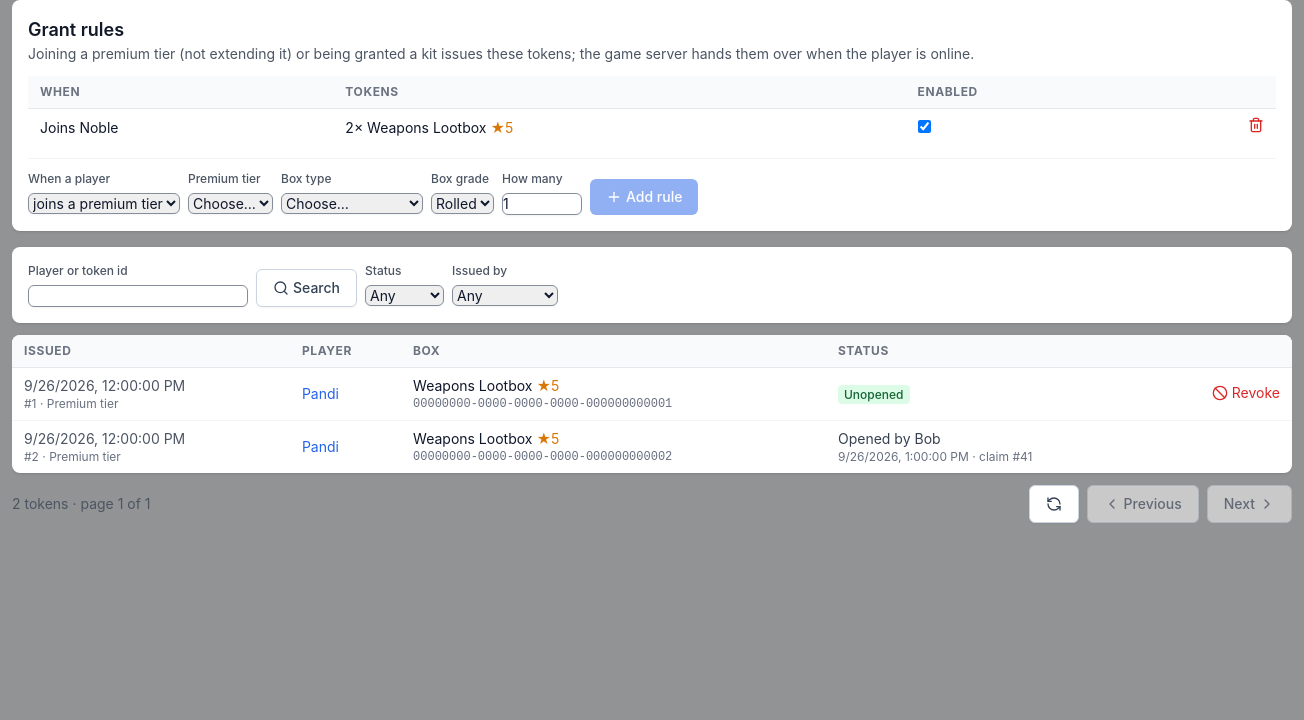
Test: Lootbox token items tab (Phase 5) › shows the grant rules and adds one for a premium tier only
Expected: the row with test id "grant-row" shows "Joins Noble", [40,118,118,136]
Select "Noble" in the dropdown named "Grant target" at (230, 204), box [188,193,273,214]
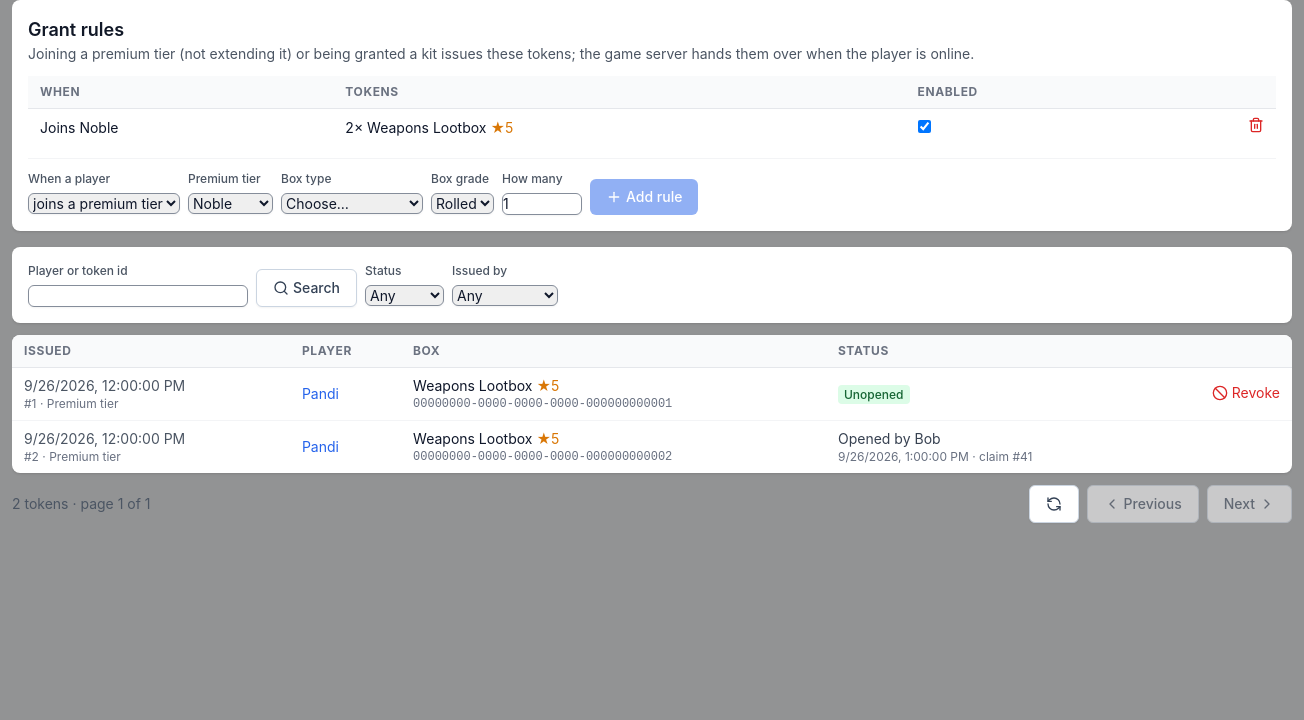
Select "Weapons Lootbox" in the dropdown named "Grant box type" at (352, 204), box [281,193,423,214]
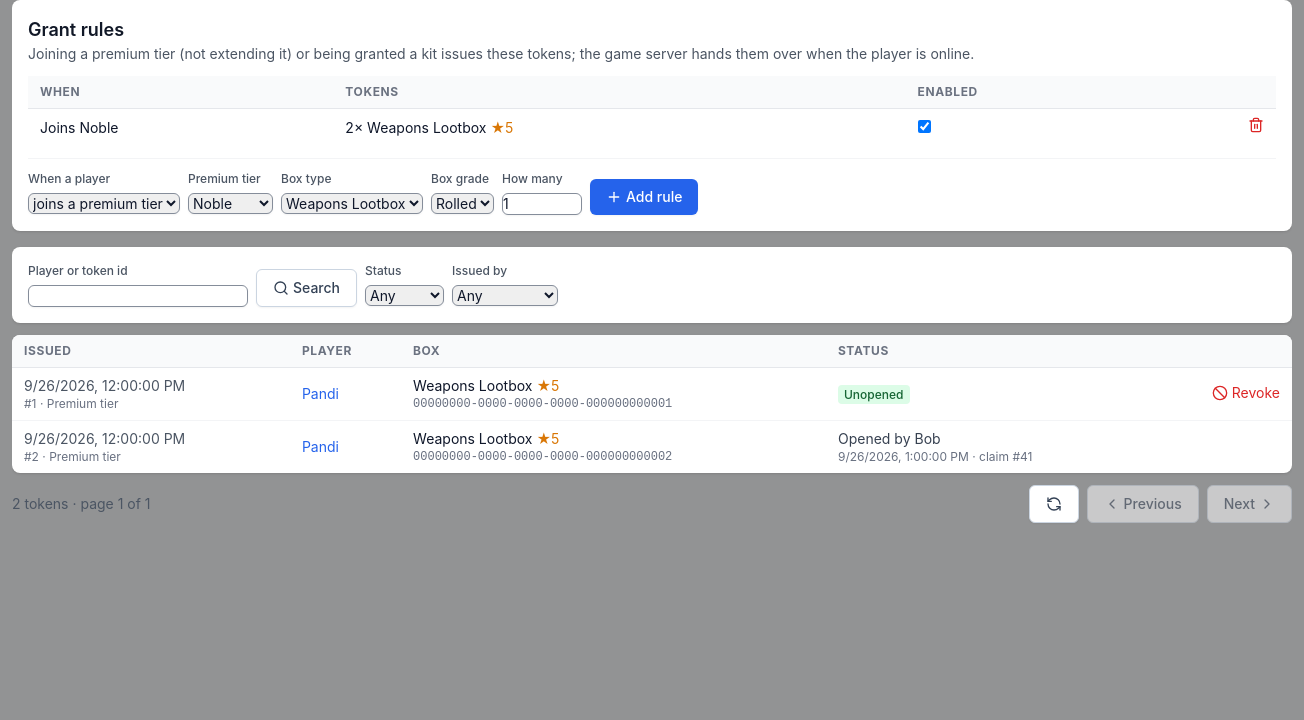
Replace the text in the number field named "Grant quantity" with "2" at (542, 204), box [502,193,582,215]
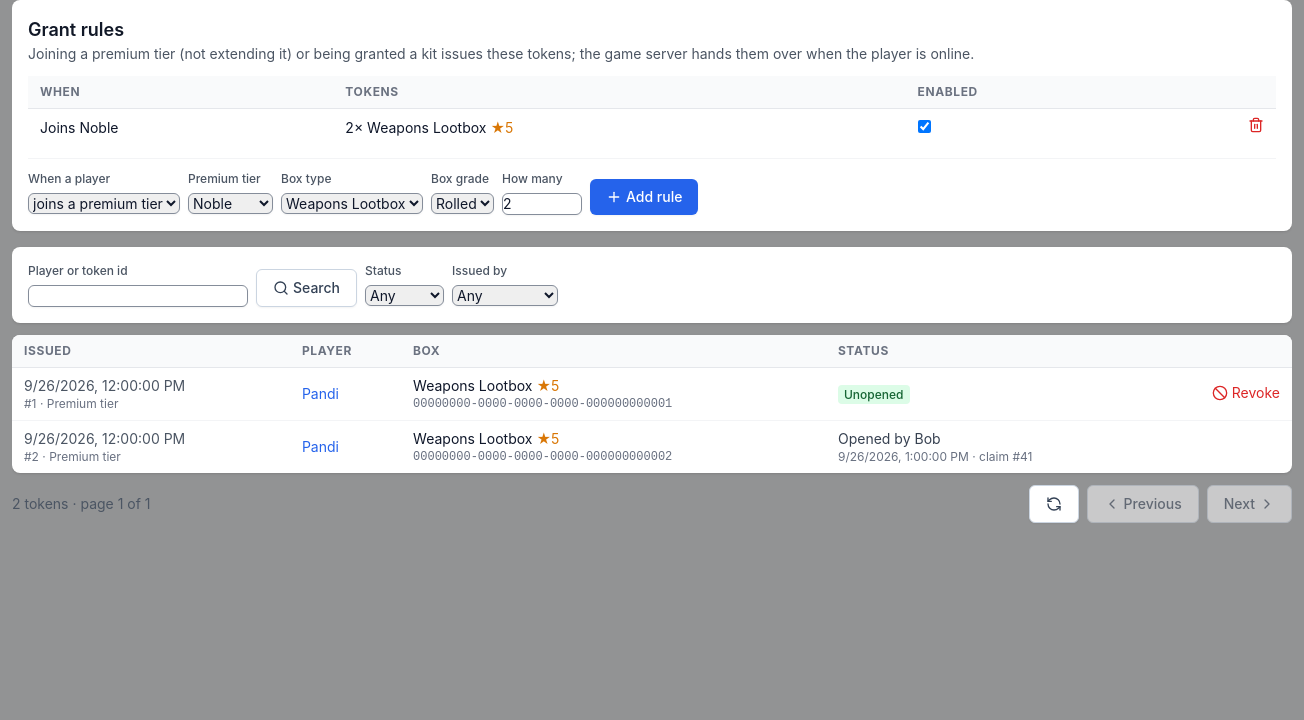
Click the button "Add rule" at (644, 197), box [590,179,698,215]
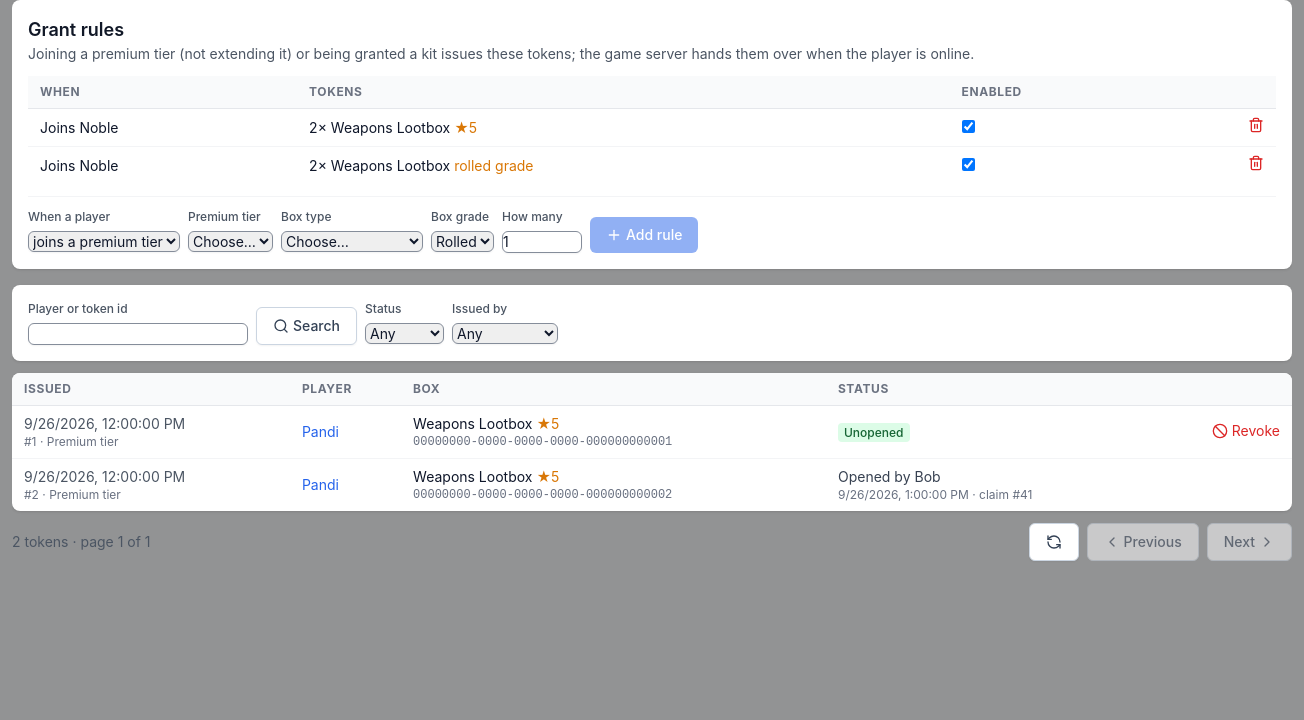
Now the number of rows with test id "grant-row" is 2, box [28,108,1276,146]; [28,146,1276,184]
